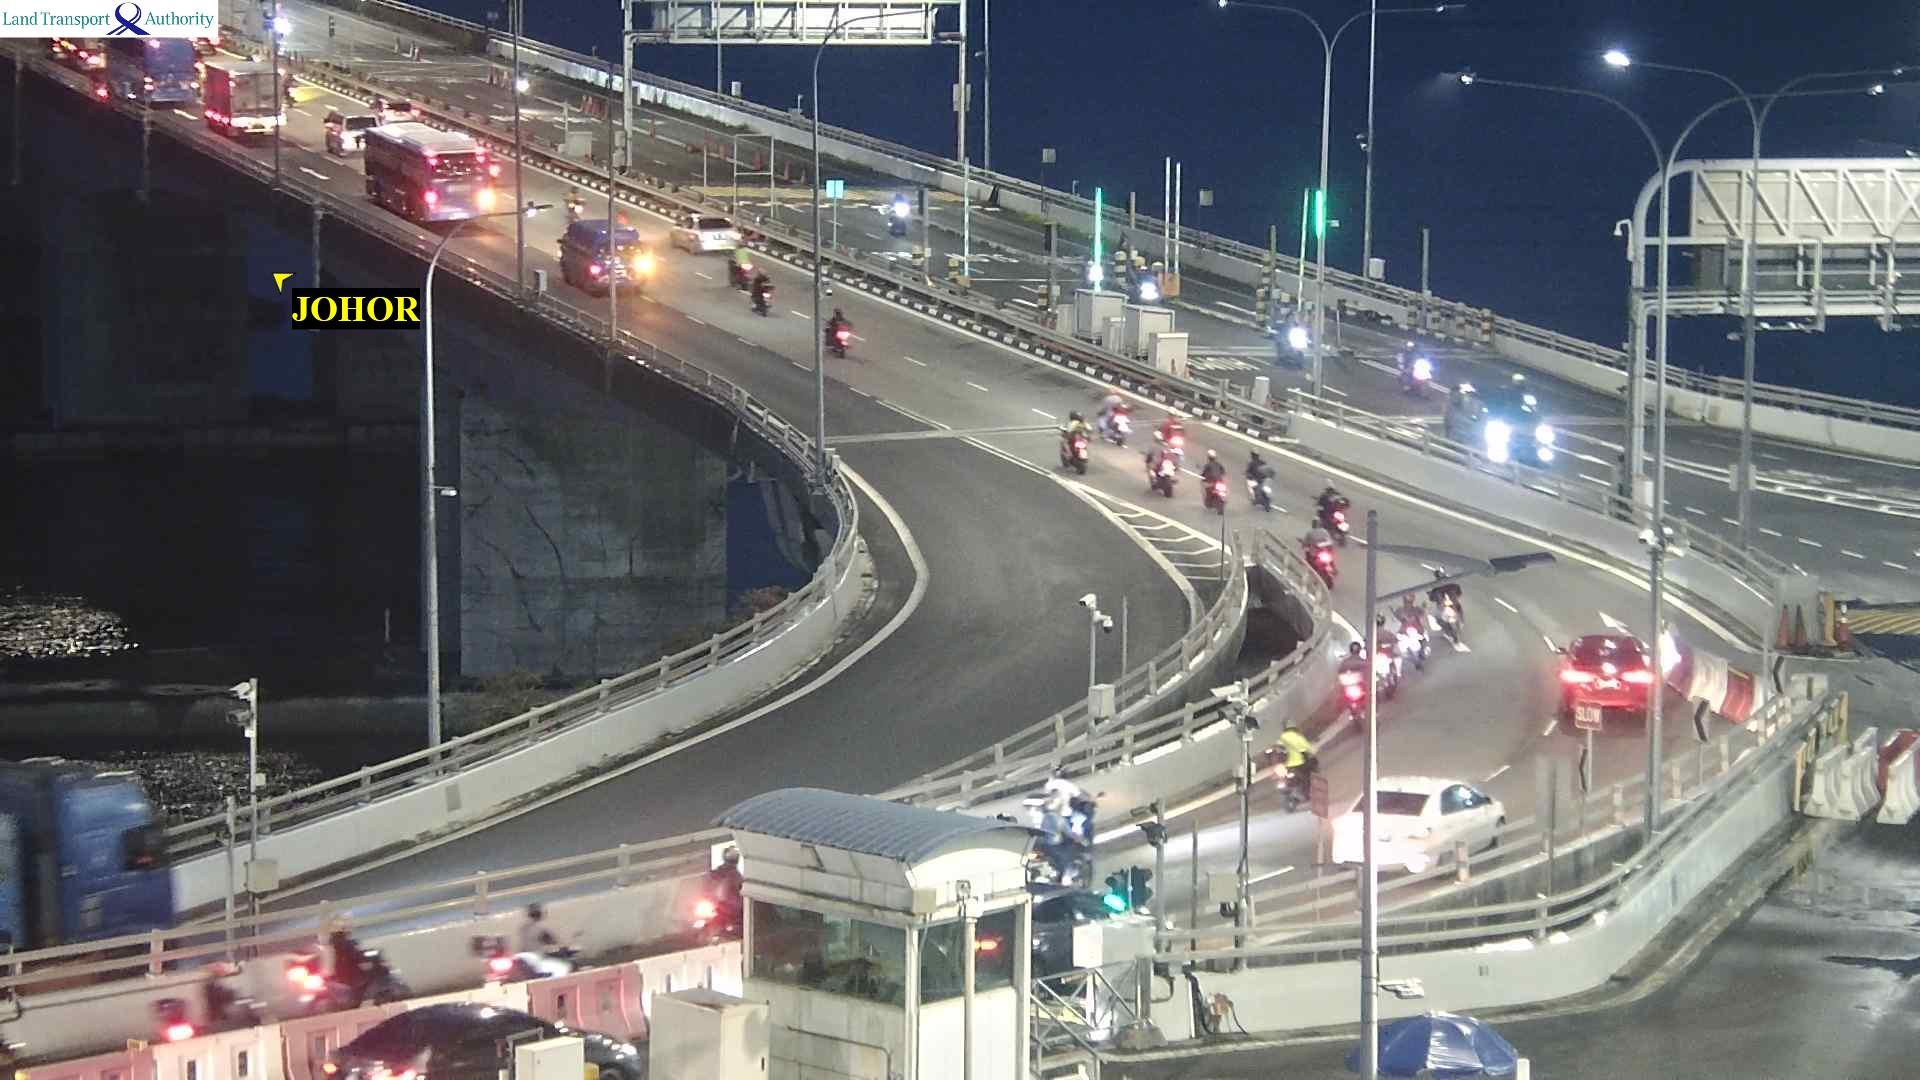vehicle-secondlink-johor: (0, 754, 223, 967), (328, 998, 615, 1080), (1349, 785, 1507, 877), (371, 117, 493, 224), (289, 924, 407, 1009), (477, 906, 589, 982), (158, 968, 265, 1042), (212, 62, 284, 146), (1015, 781, 1096, 852), (1274, 729, 1315, 802), (702, 856, 737, 935), (488, 949, 549, 984), (741, 262, 774, 313), (1060, 426, 1091, 475), (1344, 649, 1366, 711), (827, 309, 856, 355), (1323, 491, 1352, 534), (1246, 456, 1273, 504), (1308, 541, 1336, 584), (1098, 401, 1126, 443), (1149, 467, 1176, 495)
vehicle-secondlink-singapore: (1445, 378, 1544, 454), (1395, 348, 1433, 388), (1112, 235, 1138, 277)
